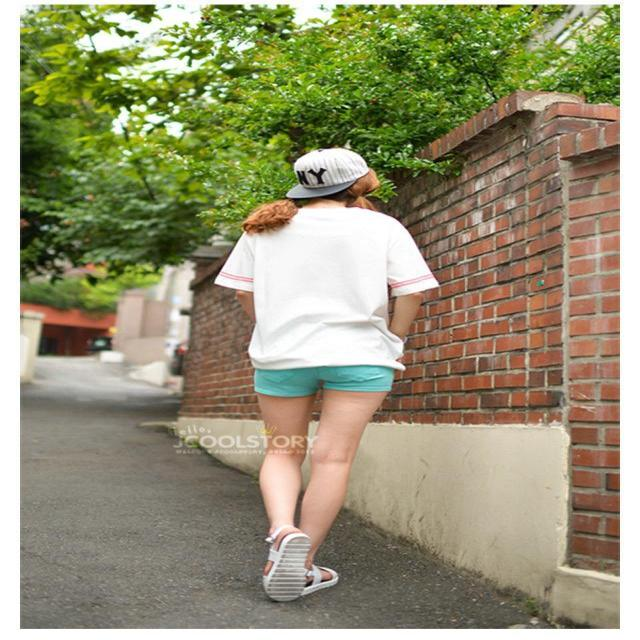short sleeve top: (214, 208, 440, 371)
shorts: (254, 342, 395, 394)
